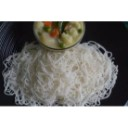idiyappam: (10, 46, 114, 104)
